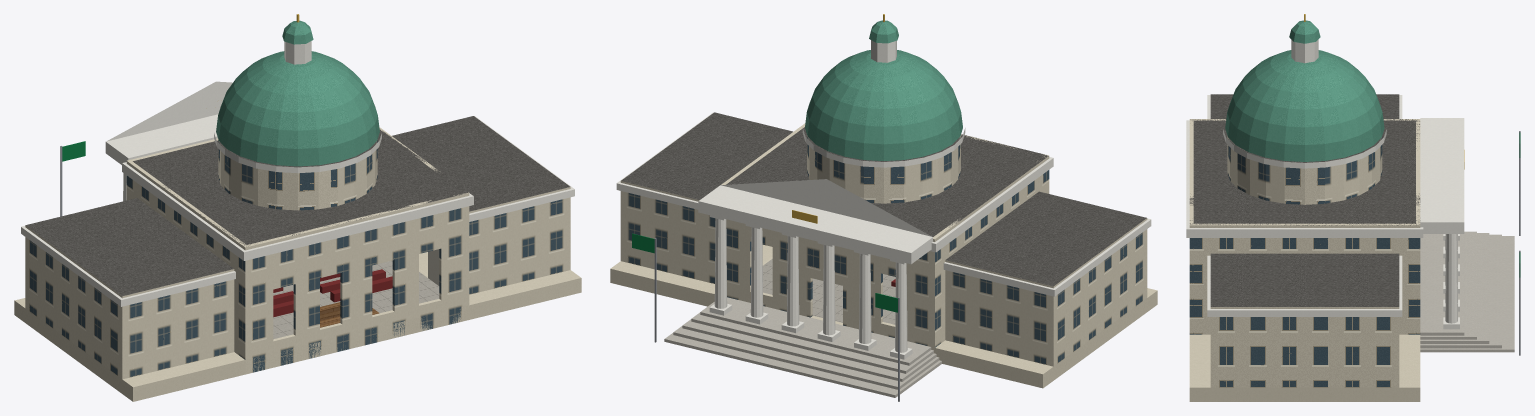
Rendered from parliament.glb.
The picture shows the model from 3 angles, left to right: view 1: azimuth 30°, elevation 25°; view 2: azimuth 150°, elevation 25°; view 3: azimuth 270°, elevation 25°; orthographic projection. The views are drawn at different scales.
Visible parts, largest first — view 1: parliament; view 2: parliament; view 3: parliament.
Part boxes in pixels (x1,y1,x2,y2): parliament: (14, 14, 581, 401); parliament: (610, 14, 1157, 401); parliament: (1186, 14, 1520, 401).
Size of the model in its own units: 48.6 by 29.6 by 31.87.
Materials: 13 (13 with a texture image).
